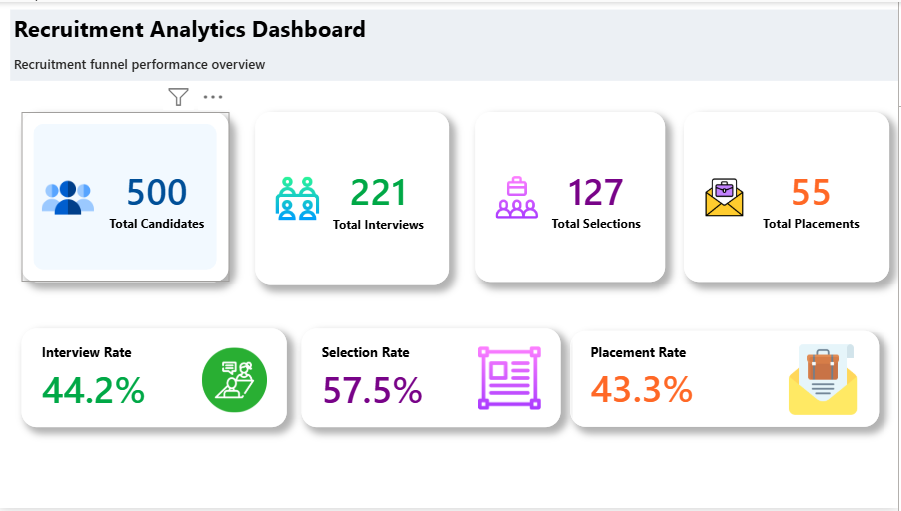

This screenshot's page, from the dashboard's own definition file:
{"tool":"powerbi","page":{"name":"Page 1","canvas":[1280,720],"ordinal":0},"visuals":[{"type":"cardVisual","fields":{"Data":["Candidates.Total Candidates"]},"box":[32,156.6,295.4,242.1],"z":1000},{"type":"cardVisual","fields":{"Data":["Candidates.Total Interviews"]},"box":[364.9,156.6,275.9,245.6],"z":2000},{"type":"cardVisual","fields":{"Data":["Candidates.Total Selections"]},"box":[678.1,156.6,270.5,242.1],"z":3000},{"type":"cardVisual","fields":{"Data":["Candidates.Total Placements"]},"box":[975.3,156.6,291.9,242.1],"z":4000},{"type":"cardVisual","fields":{"Data":["Candidates.Interview Rate"]},"box":[32,464.5,377.3,140.6],"z":5000},{"type":"cardVisual","fields":{"Data":["Candidates.Selection Rate"]},"box":[430.7,464.5,368.4,140.6],"z":6000},{"type":"textbox","box":[16,10.7,1263.6,101.4],"z":7000},{"type":"cardVisual","fields":{"Data":["Candidates.Placement Rate"]},"box":[813.4,468.1,439.6,137],"z":8000}]}

Visuals, with their boxes in screenshot pixels (x1, y1, x2, y2), scaled from the page's 1280x720 canvas onto the 901x511 screenshot:
cardVisual - Candidates.Total Candidates: [23, 111, 230, 283]
cardVisual - Candidates.Total Interviews: [257, 111, 451, 285]
cardVisual - Candidates.Total Selections: [477, 111, 668, 283]
cardVisual - Candidates.Total Placements: [687, 111, 892, 283]
cardVisual - Candidates.Interview Rate: [23, 330, 288, 429]
cardVisual - Candidates.Selection Rate: [303, 330, 562, 429]
textbox: [11, 8, 900, 80]
cardVisual - Candidates.Placement Rate: [573, 332, 882, 429]
